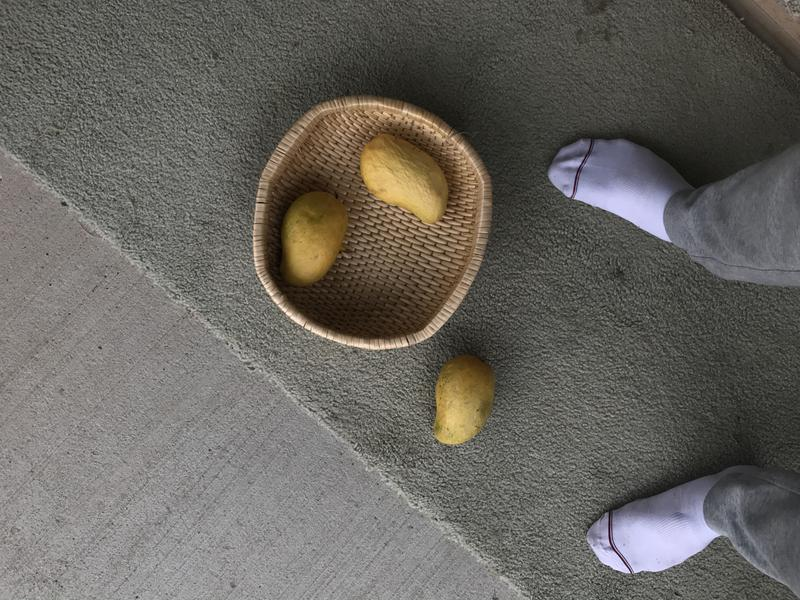w: (350, 120, 463, 229), (276, 182, 355, 299), (426, 349, 497, 459)
